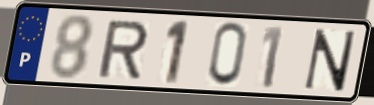0: (205, 20, 249, 90)
1: (164, 19, 192, 86), (260, 24, 287, 90)
8: (48, 12, 97, 82)
N: (300, 27, 359, 94)
R: (95, 19, 151, 80)
